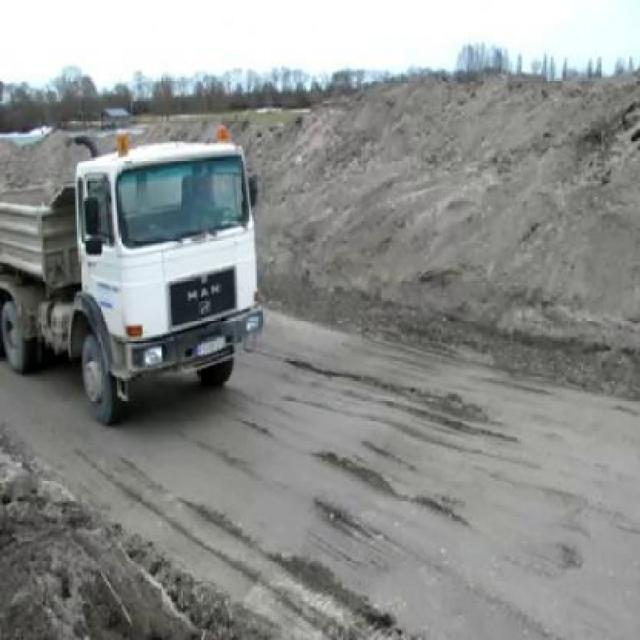Dump Truck: (0, 121, 265, 425)
